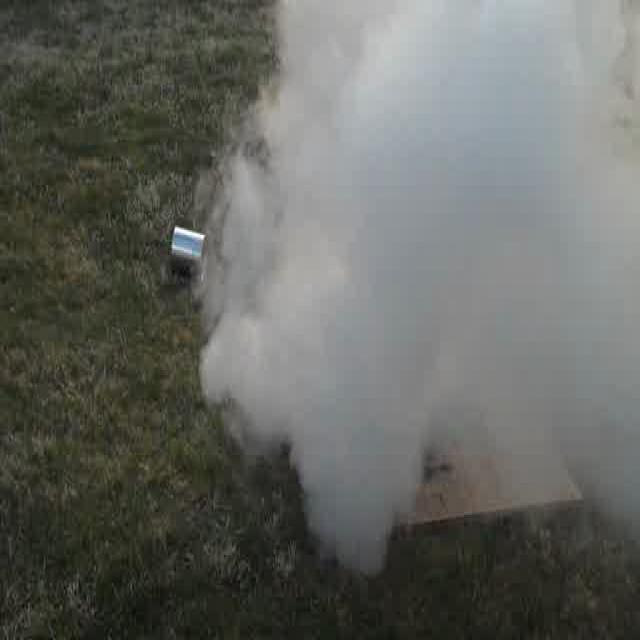Smoke: (224, 5, 636, 530)
